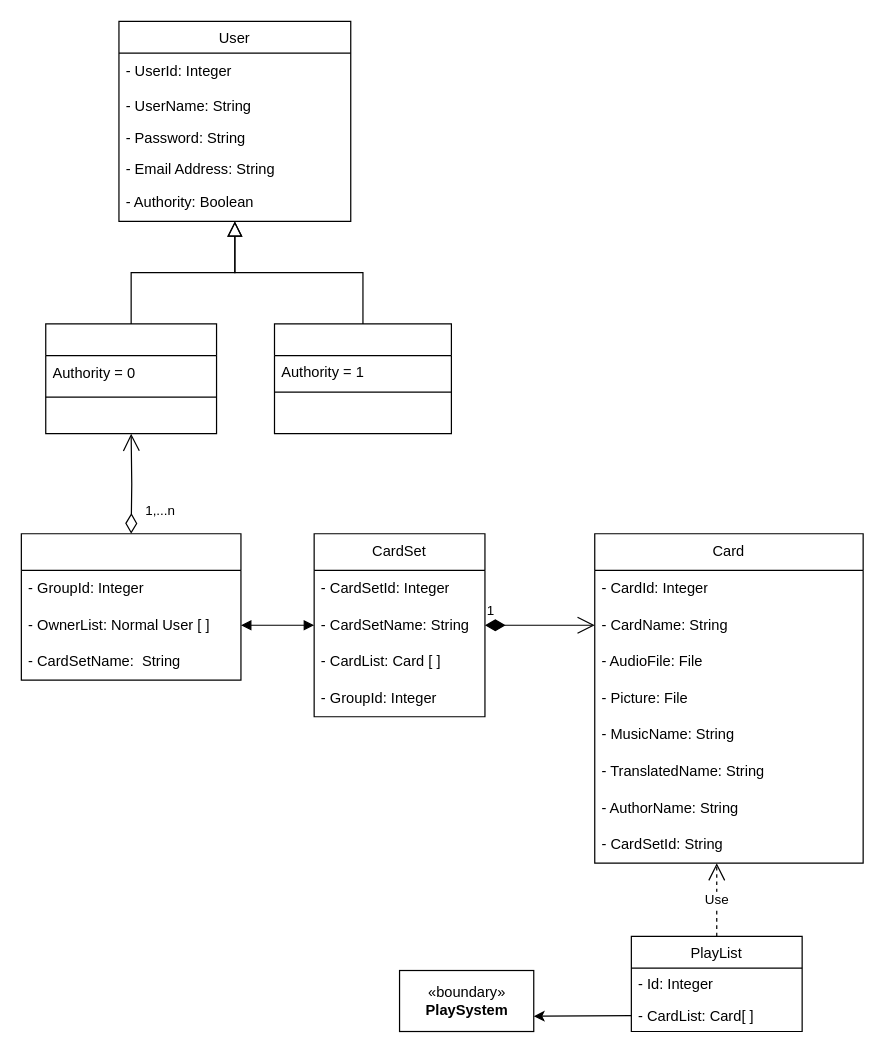
Image size: 885x1057. Some labels were removed from this diagram. The box of each missing label's shape, as (x1, y1, x2, y2) in pixels:
Administrators: (273, 323, 451, 434)
Card Owner Group: (20, 533, 241, 680)
Normal User: (45, 323, 217, 434)
